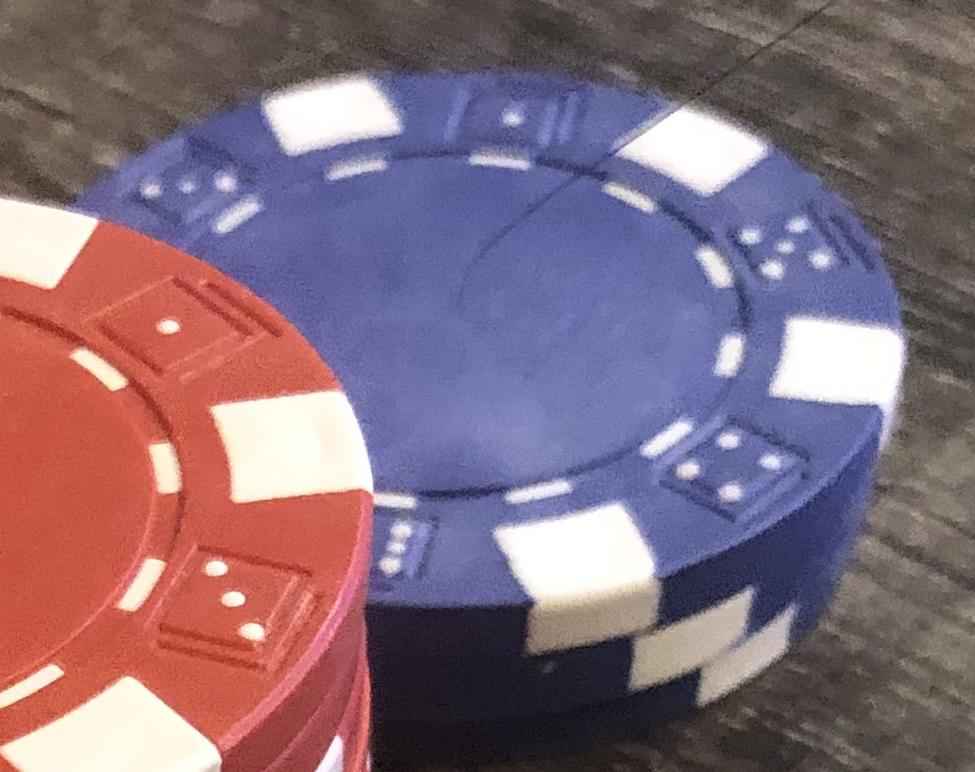Chip: (1, 1, 975, 772)
